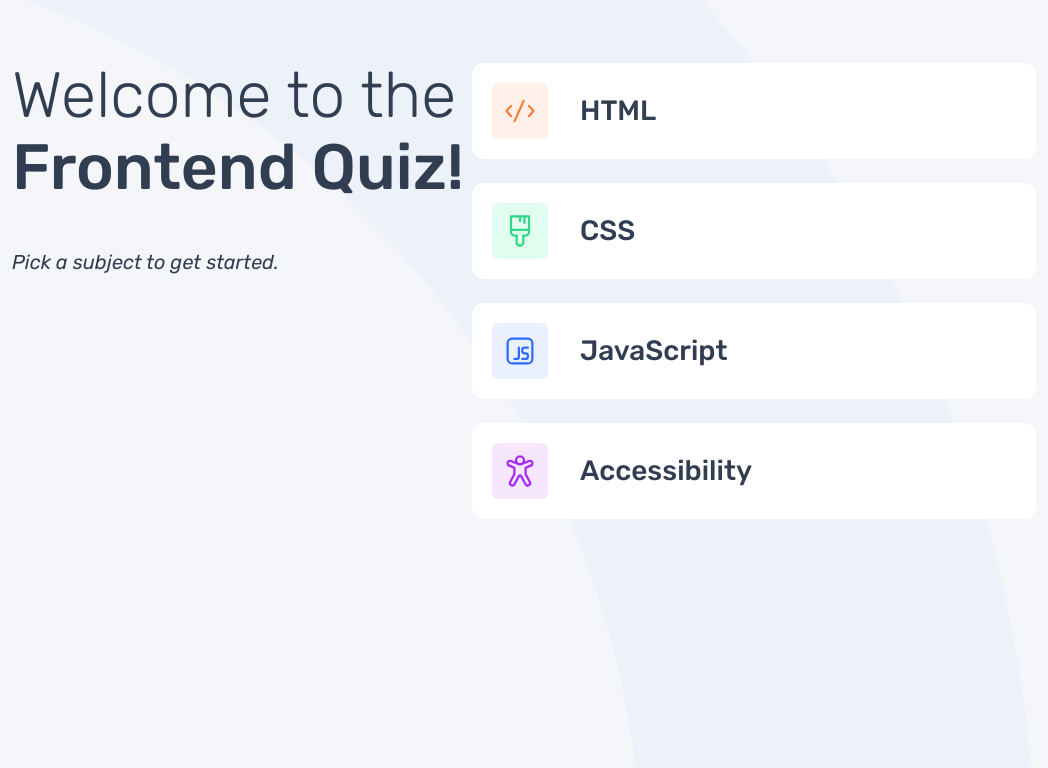
Test: Quiz › renders a quiz
The image size is (1048, 768).
Click the link "HTML". click: (520,111)
box: [472, 63, 1036, 159]
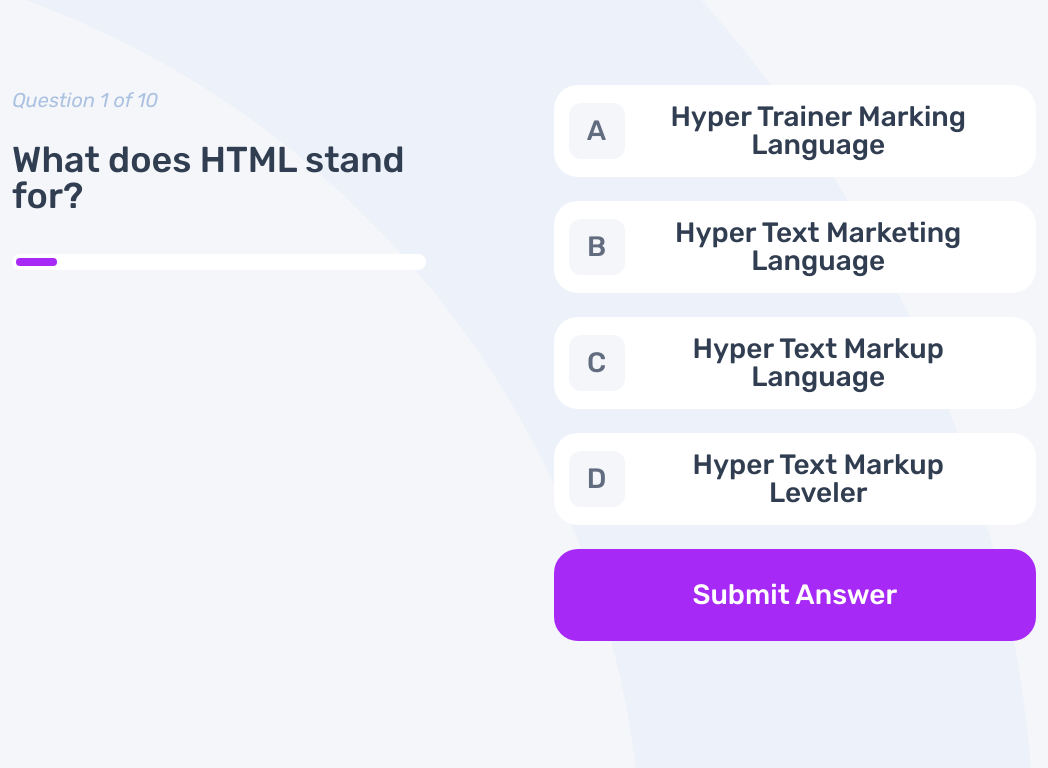
Result: the text "What does HTML stand for?" is shown at [12, 142, 426, 214]
